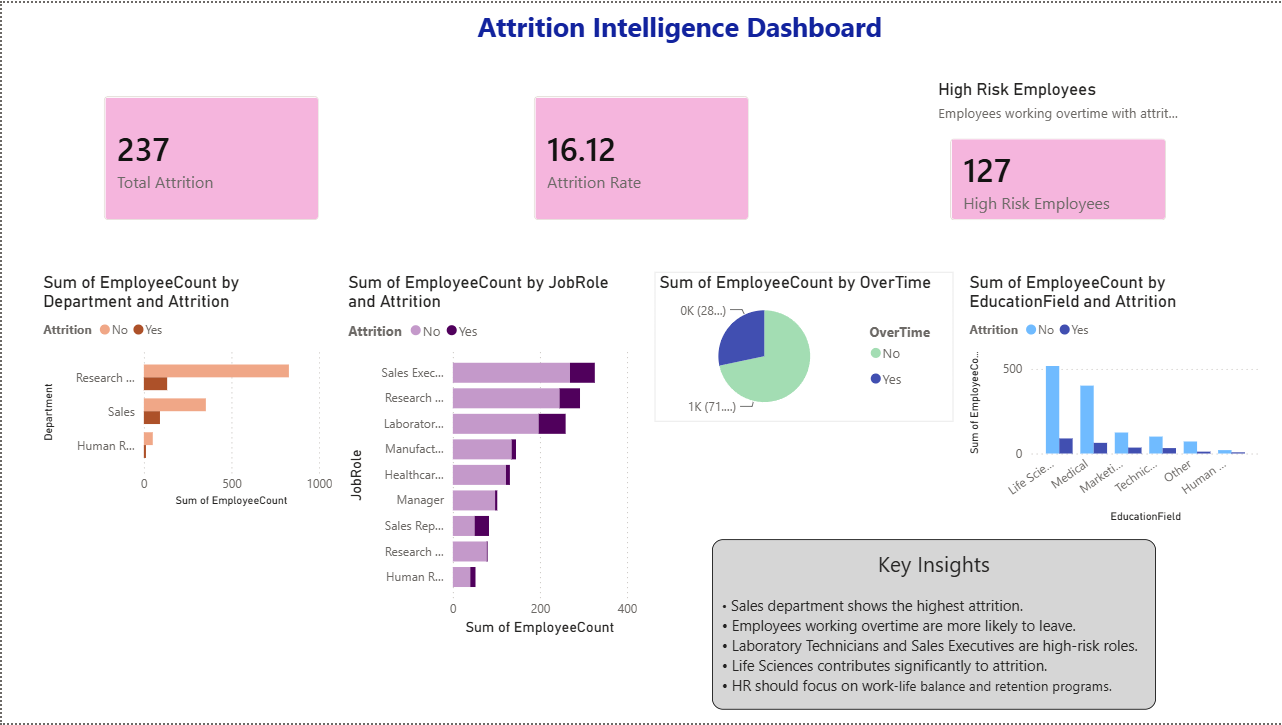

What the dashboard file says about the page in this screenshot:
{"tool":"powerbi","page":{"name":"Attrition Intelligence","canvas":[1280,720],"ordinal":2},"visuals":[{"type":"textbox","box":[423.9,0,507.9,52.8],"z":0},{"type":"clusteredBarChart","fields":{"Category":["WA_Fn-UseC_-HR-Employee-Attrition.Department"],"Series":["WA_Fn-UseC_-HR-Employee-Attrition.Attrition"],"Y":["Sum(WA_Fn-UseC_-HR-Employee-Attrition.EmployeeCount)"]},"box":[36,269,299,240.2],"z":1000},{"type":"barChart","fields":{"Category":["WA_Fn-UseC_-HR-Employee-Attrition.JobRole"],"Y":["Sum(WA_Fn-UseC_-HR-Employee-Attrition.EmployeeCount)"],"Series":["WA_Fn-UseC_-HR-Employee-Attrition.Attrition"]},"box":[341,269,299,368.6],"z":2000},{"type":"pieChart","fields":{"Category":["WA_Fn-UseC_-HR-Employee-Attrition.OverTime"],"Y":["Sum(WA_Fn-UseC_-HR-Employee-Attrition.EmployeeCount)"]},"box":[652,269,299,150.1],"z":3000},{"type":"clusteredColumnChart","fields":{"Category":["WA_Fn-UseC_-HR-Employee-Attrition.EducationField"],"Y":["Sum(WA_Fn-UseC_-HR-Employee-Attrition.EmployeeCount)"],"Series":["WA_Fn-UseC_-HR-Employee-Attrition.Attrition"]},"box":[963,269,300.2,255.8],"z":4000},{"type":"cardVisual","title":"High Risk Employees","fields":{"Data":["WA_Fn-UseC_-HR-Employee-Attrition.High Risk Employees"]},"box":[931.8,75.6,251,158.5],"z":5000},{"type":"cardVisual","fields":{"Data":["WA_Fn-UseC_-HR-Employee-Attrition.Total Attrition"]},"box":[85.3,75.6,249.8,158.5],"z":5001},{"type":"cardVisual","fields":{"Data":["WA_Fn-UseC_-HR-Employee-Attrition.Attrition Rate"]},"box":[515.1,75.6,249.8,158.5],"z":5002},{"type":"textbox","box":[709.6,536.7,444.3,170.5],"z":5004},{"type":"textbox","box":[36,509,299,150],"z":5006}]}

Visuals, with their boxes in screenshot pixels (x1, y1, x2, y2), scaled from the page's 1280x720 canvas onto the 1282x725 screenshot:
textbox: (left=425, top=0, right=933, bottom=53)
clusteredBarChart - WA_Fn-UseC_-HR-Employee-Attrition.Department x WA_Fn-UseC_-HR-Employee-Attrition.Attrition: (left=36, top=271, right=336, bottom=513)
barChart - WA_Fn-UseC_-HR-Employee-Attrition.JobRole x Sum(WA_Fn-UseC_-HR-Employee-Attrition.EmployeeCount): (left=342, top=271, right=641, bottom=642)
pieChart - WA_Fn-UseC_-HR-Employee-Attrition.OverTime x Sum(WA_Fn-UseC_-HR-Employee-Attrition.EmployeeCount): (left=653, top=271, right=952, bottom=422)
clusteredColumnChart - WA_Fn-UseC_-HR-Employee-Attrition.EducationField x Sum(WA_Fn-UseC_-HR-Employee-Attrition.EmployeeCount): (left=965, top=271, right=1265, bottom=528)
"High Risk Employees" cardVisual: (left=933, top=76, right=1185, bottom=236)
cardVisual - WA_Fn-UseC_-HR-Employee-Attrition.Total Attrition: (left=85, top=76, right=336, bottom=236)
cardVisual - WA_Fn-UseC_-HR-Employee-Attrition.Attrition Rate: (left=516, top=76, right=766, bottom=236)
textbox: (left=711, top=540, right=1156, bottom=712)
textbox: (left=36, top=513, right=336, bottom=664)
